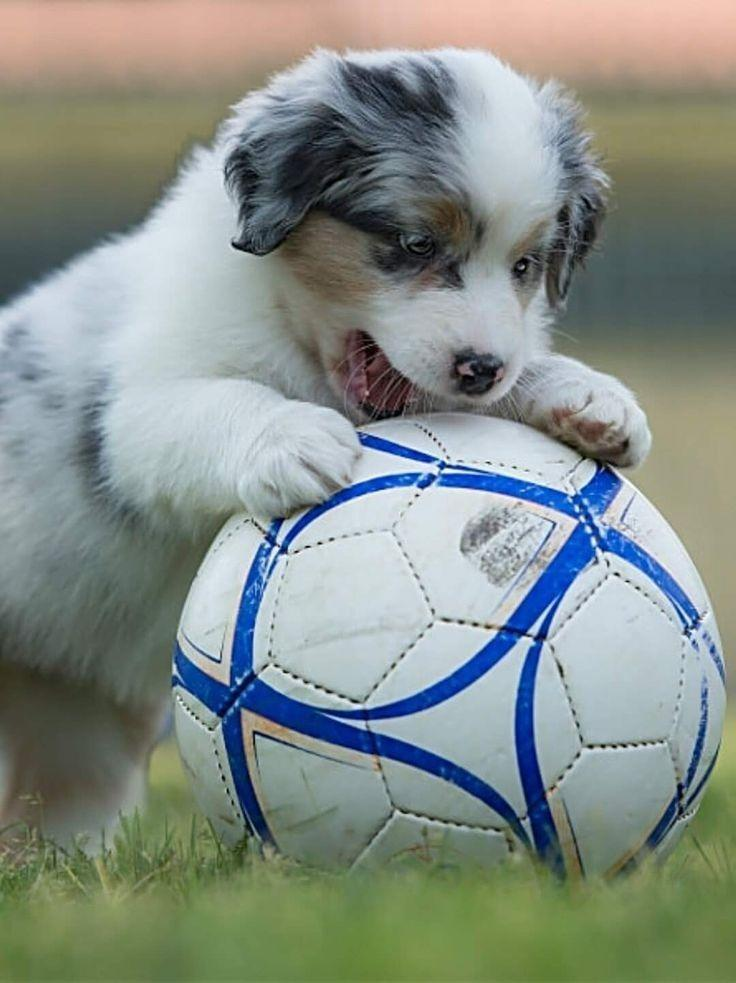non-dog: (170, 410, 731, 891)
puppy-dog: (1, 41, 657, 877)
